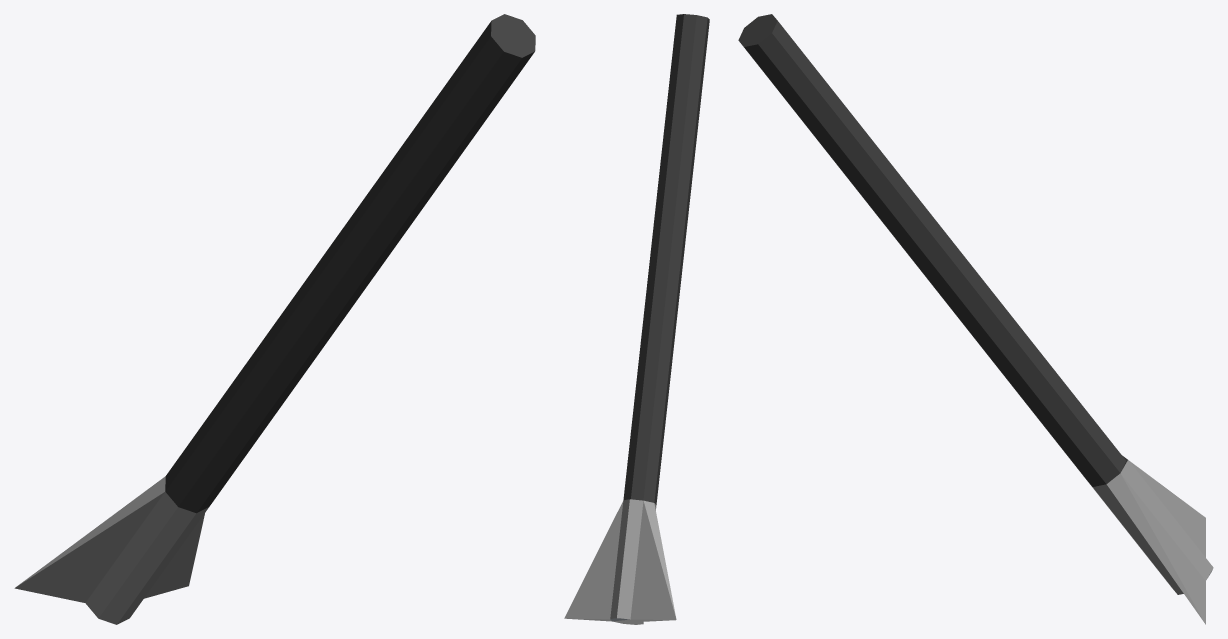
File: pStaff.obj
3 renders of one model, left to right at view 1: azimuth 30°, elevation 25°; view 2: azimuth 150°, elevation 25°; view 3: azimuth 270°, elevation 25°, orthographic. The views are drawn at different scales.
Visible parts, largest first — view 1: SHOTGUN_pistol_q2_SS_v1_0000_submodel00_mesh0000.003; view 2: SHOTGUN_pistol_q2_SS_v1_0000_submodel00_mesh0000.003; view 3: SHOTGUN_pistol_q2_SS_v1_0000_submodel00_mesh0000.003.
Part boxes in pixels (x1=…): SHOTGUN_pistol_q2_SS_v1_0000_submodel00_mesh0000.003: x1=14, y1=14, x2=535, y2=624; SHOTGUN_pistol_q2_SS_v1_0000_submodel00_mesh0000.003: x1=564, y1=14, x2=709, y2=624; SHOTGUN_pistol_q2_SS_v1_0000_submodel00_mesh0000.003: x1=738, y1=14, x2=1213, y2=624.
Bounding box in the file's own units: 3.62 × 9.9 × 6.74.
